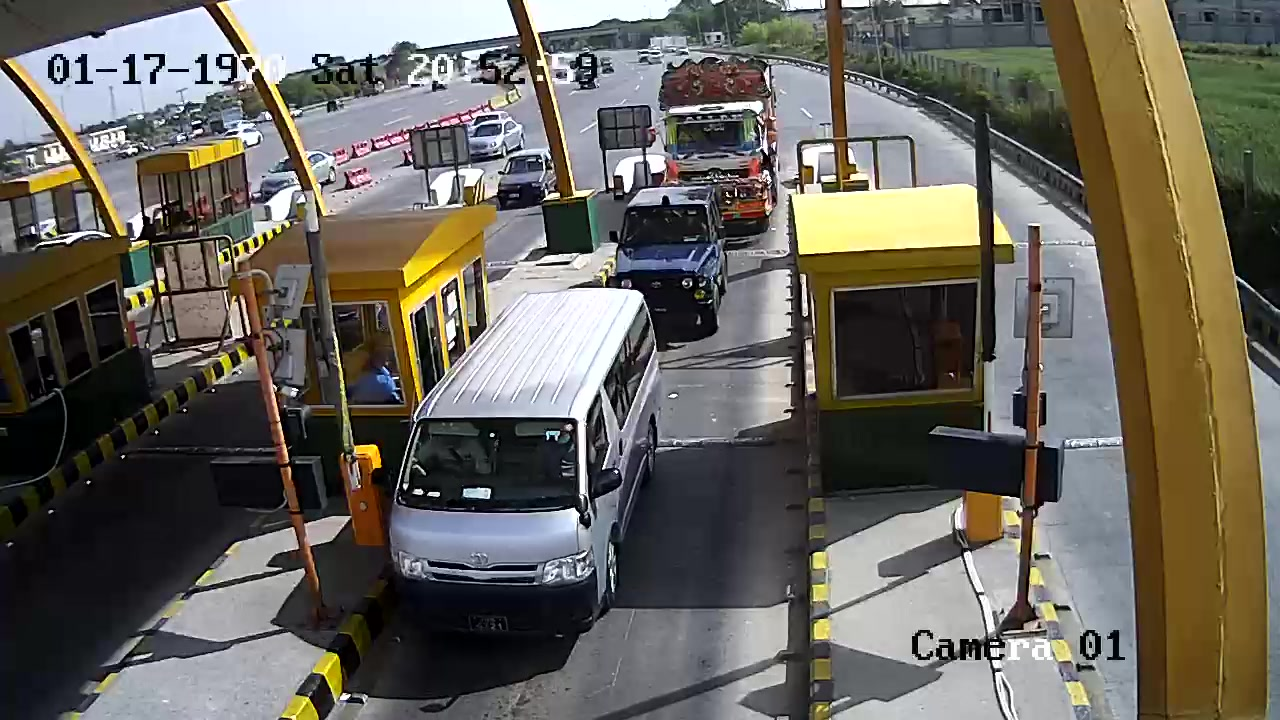F3: (391, 287, 657, 639)
